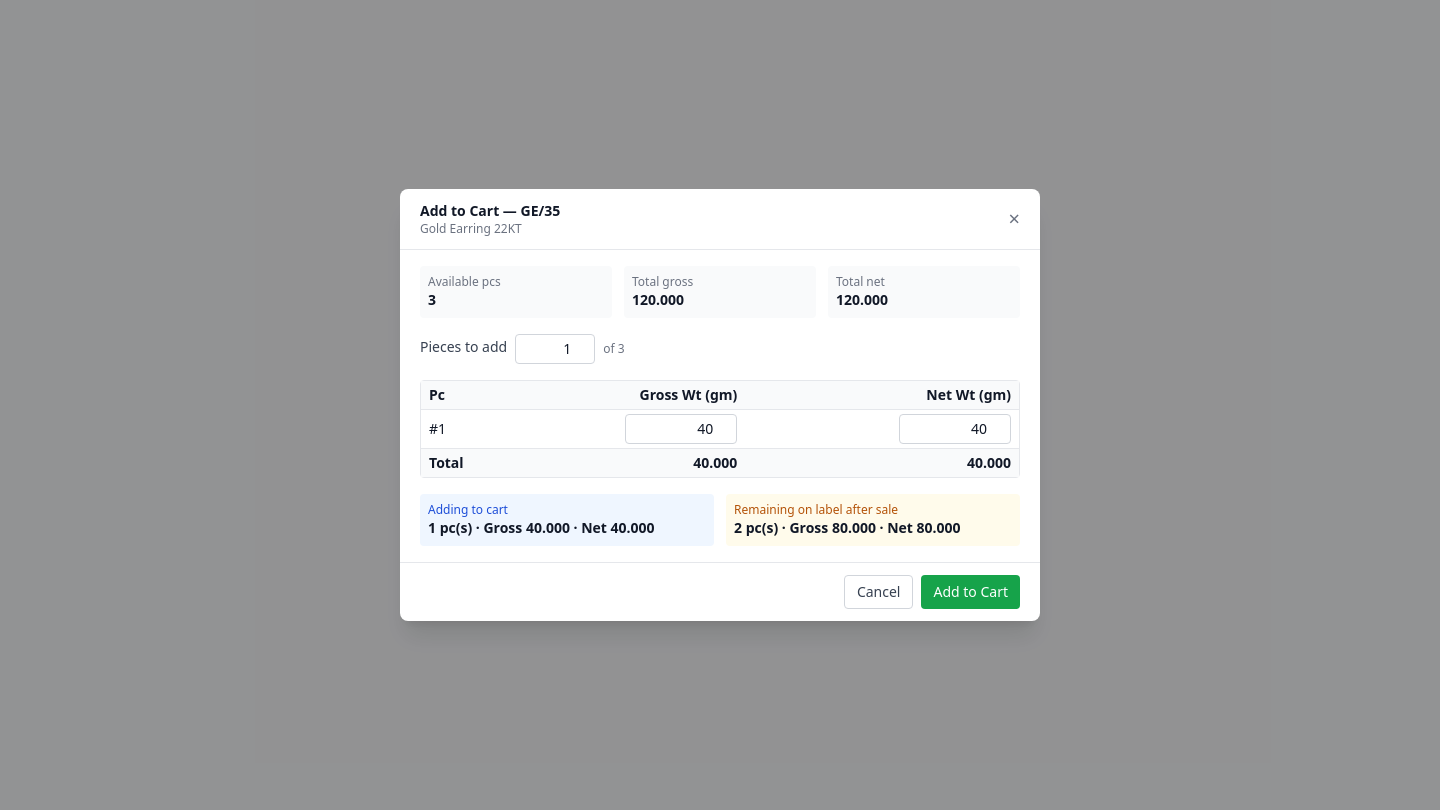
Test: AddToCartPartialModal › caps selected pcs at totalPcs
The width and height of the screenshot is (1440, 810).
Step 1. Replace the text in the number field with test id "selected-pcs-input" with "99" → coordinates (555, 349), box x1=515 y1=334 x2=595 y2=364
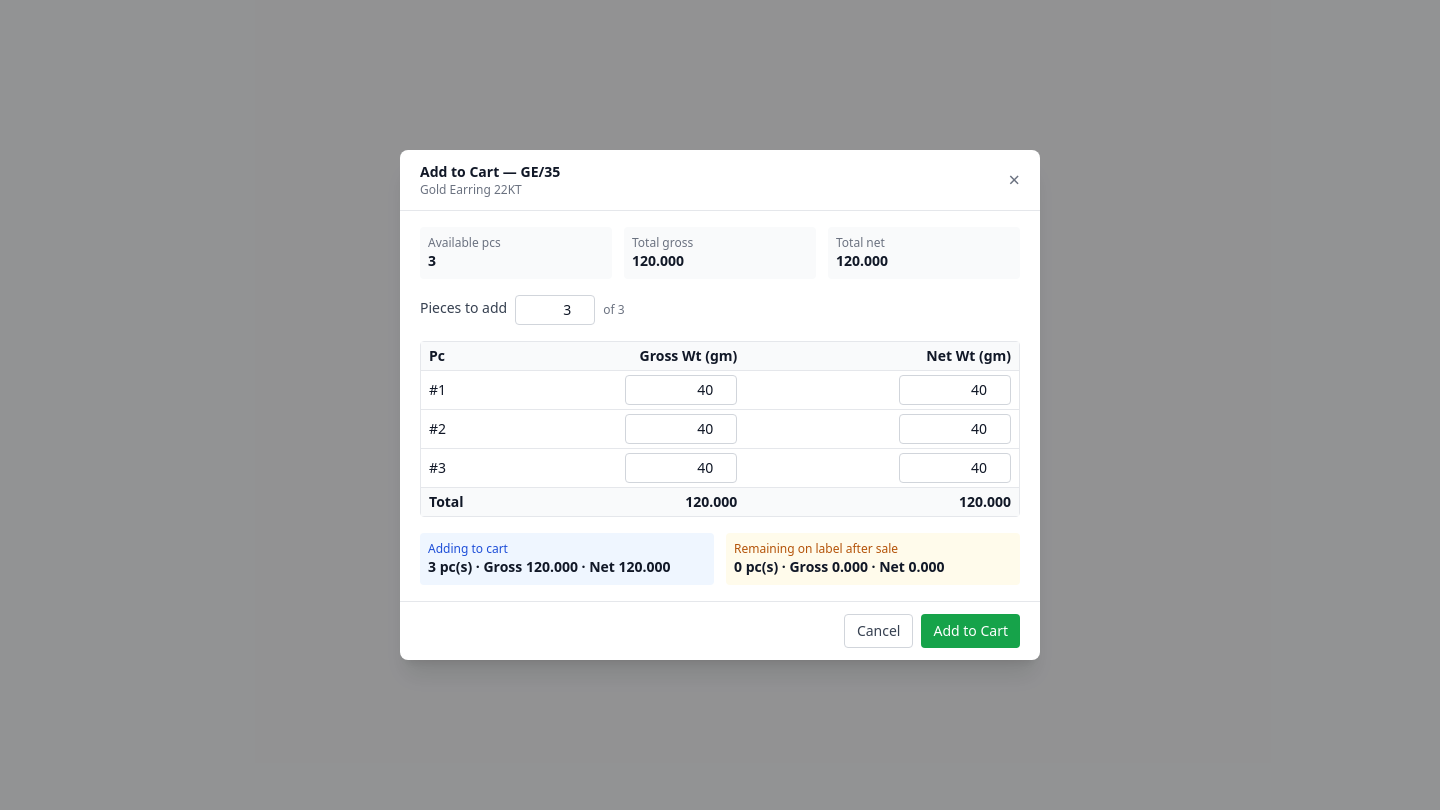
Result: the number field with test id "selected-pcs-input" holds "3" at x1=515 y1=295 x2=595 y2=325
